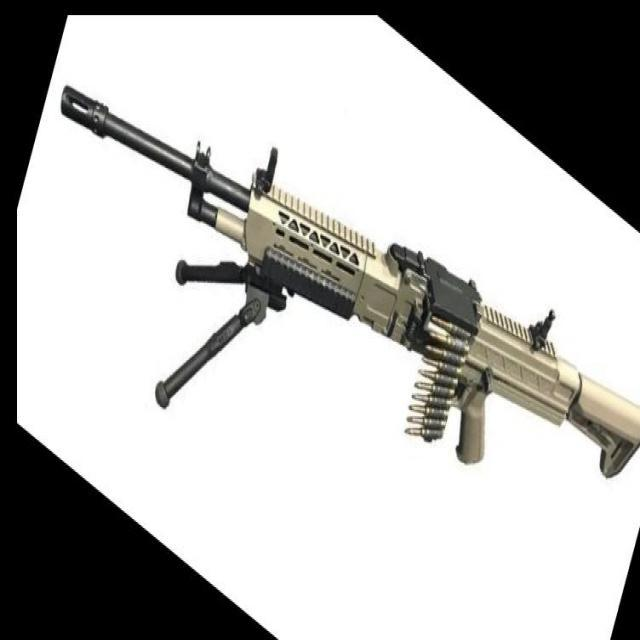weapon: (60, 85, 640, 482)
